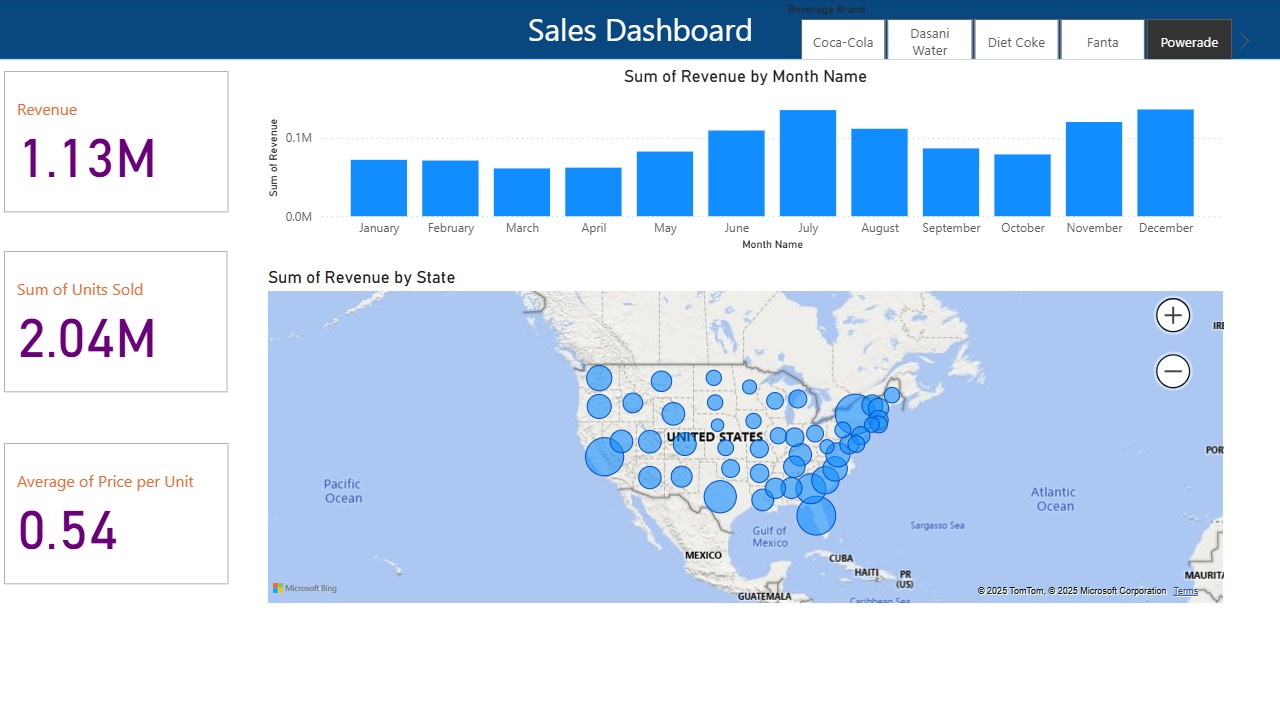

The dashboard page shown, as its layout file describes it:
{"tool":"powerbi","page":{"name":"Page 1","canvas":[1280,720],"ordinal":0},"visuals":[{"type":"shape","box":[0,0,1280,61.3],"z":0},{"type":"cardVisual","fields":{"Data":["Sum(Data.Revenue)"]},"box":[0,68.1,234.4,151.7],"z":1000},{"type":"cardVisual","fields":{"Data":["Sum(Data.Units Sold)"]},"box":[0,247.4,233.5,151.6],"z":2000},{"type":"cardVisual","fields":{"Data":["Avg(Data.Price per Unit)"]},"box":[0,439,234.5,151.6],"z":3000},{"type":"columnChart","fields":{"Y":["Sum(Data.Revenue)"],"Category":["Data.Month Name"]},"box":[263.3,68.3,963,188.9],"z":4000},{"type":"map","fields":{"Size":["Sum(Data.Revenue)"],"Category":["Data.State"]},"box":[263.3,268.7,963,339.6],"z":5000},{"type":"slicer","fields":{"Values":["Data.Beverage Brand"]},"box":[774.1,0,479.7,61.2],"z":6000}]}

Visuals, with their boxes in screenshot pixels (x1, y1, x2, y2), scaled from the page's 1280x720 canvas onto the 1280x717 screenshot:
shape: bbox=[0, 0, 1279, 61]
cardVisual - Sum(Data.Revenue): bbox=[0, 68, 234, 219]
cardVisual - Sum(Data.Units Sold): bbox=[0, 246, 234, 397]
cardVisual - Avg(Data.Price per Unit): bbox=[0, 437, 234, 588]
columnChart - Sum(Data.Revenue) x Data.Month Name: bbox=[263, 68, 1226, 256]
map - Sum(Data.Revenue) x Data.State: bbox=[263, 268, 1226, 606]
slicer - Data.Beverage Brand: bbox=[774, 0, 1254, 61]
